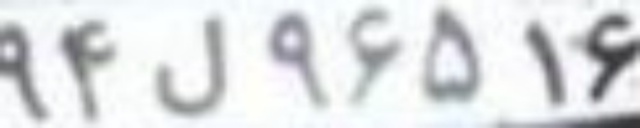1: (522, 21, 565, 101)
4: (61, 21, 118, 116)
5: (419, 7, 480, 101)
6: (341, 8, 401, 101), (580, 13, 637, 101)
9: (266, 14, 327, 108), (0, 21, 46, 118)
lam: (151, 16, 226, 115)
